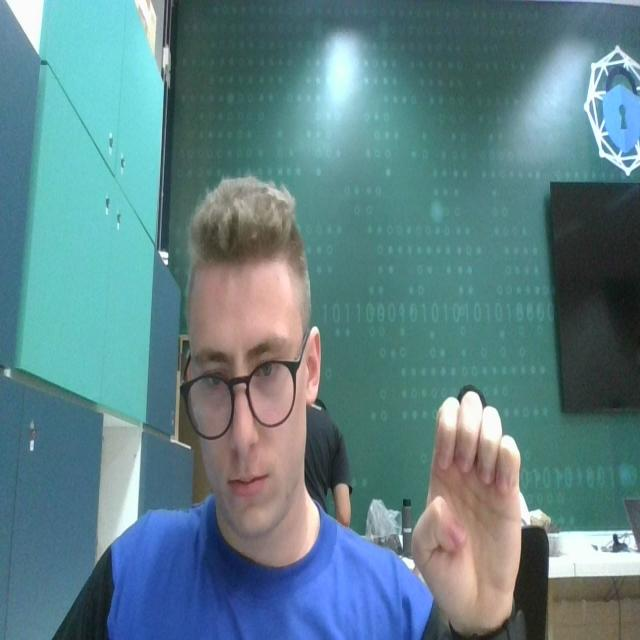E: (406, 386, 527, 626)
